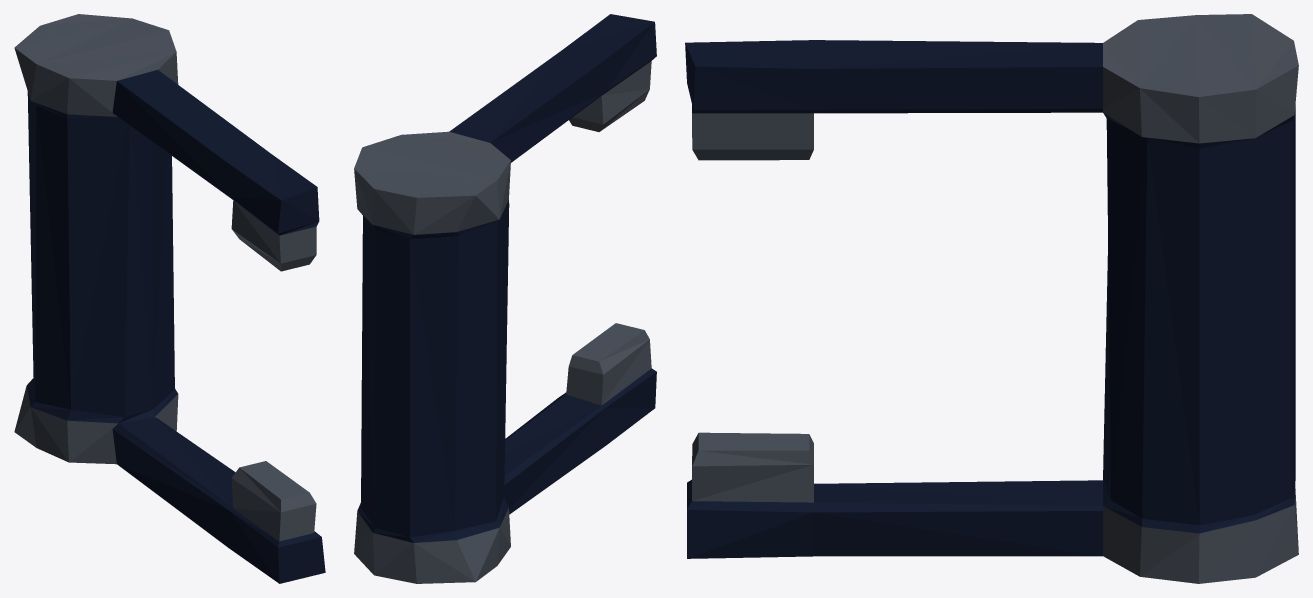
File: double_rotator.FBX
The picture shows the model from 3 angles, left to right: view 1: azimuth 30°, elevation 25°; view 2: azimuth 150°, elevation 25°; view 3: azimuth 270°, elevation 25°; orthographic projection. The views are drawn at different scales.
Visible parts, largest first — view 1: double_rotator; view 2: double_rotator; view 3: double_rotator.
Part boxes in pixels (box(x1,y1,x2,y2)): double_rotator: box(14, 14, 325, 583); double_rotator: box(354, 14, 656, 583); double_rotator: box(685, 14, 1298, 583).
Size of the model in its own units: 1.82 by 4.87 by 5.53.
